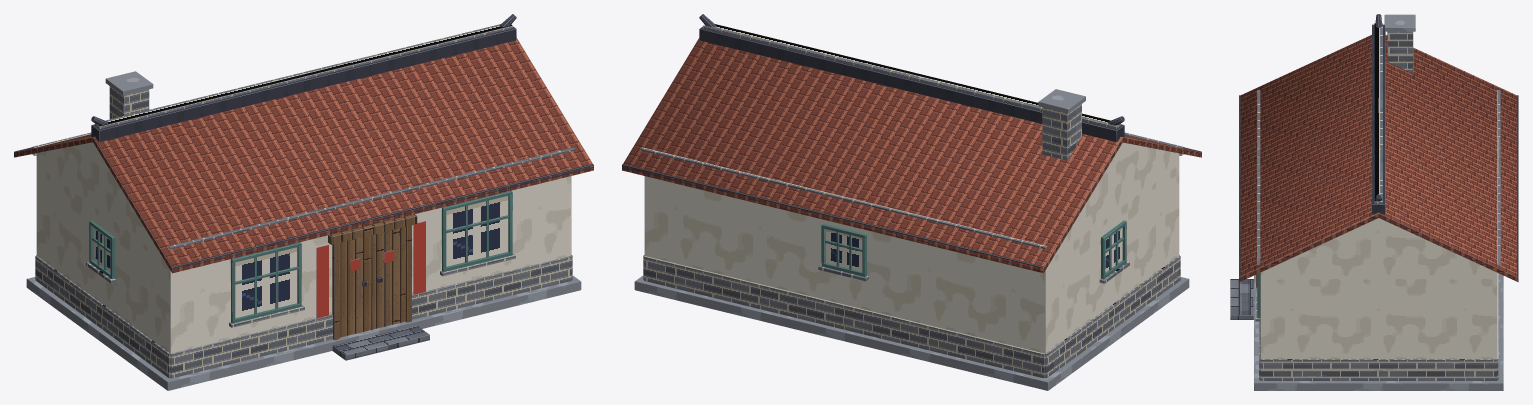
File: cn_brick_house_1.glb
The picture shows the model from 3 angles, left to right: view 1: azimuth 30°, elevation 25°; view 2: azimuth 150°, elevation 25°; view 3: azimuth 270°, elevation 25°; orthographic projection. The views are drawn at different scales.
Visible parts, largest first — view 1: cn_brick_house_2; view 2: cn_brick_house_2; view 3: cn_brick_house_2.
Boxes of the visible parts, left/top/right/bottom form: cn_brick_house_2: left=14, top=14, right=593, bottom=390; cn_brick_house_2: left=622, top=14, right=1201, bottom=390; cn_brick_house_2: left=1230, top=14, right=1518, bottom=390.
Bounding box in the file's own units: 10.07 × 5.4 × 6.7.
Materials: 13 (13 with a texture image).
